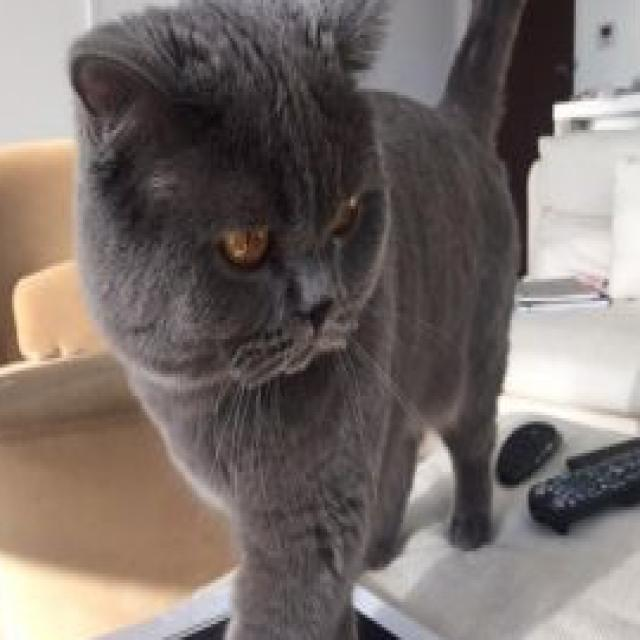British Shorthair: (62, 0, 540, 640)
